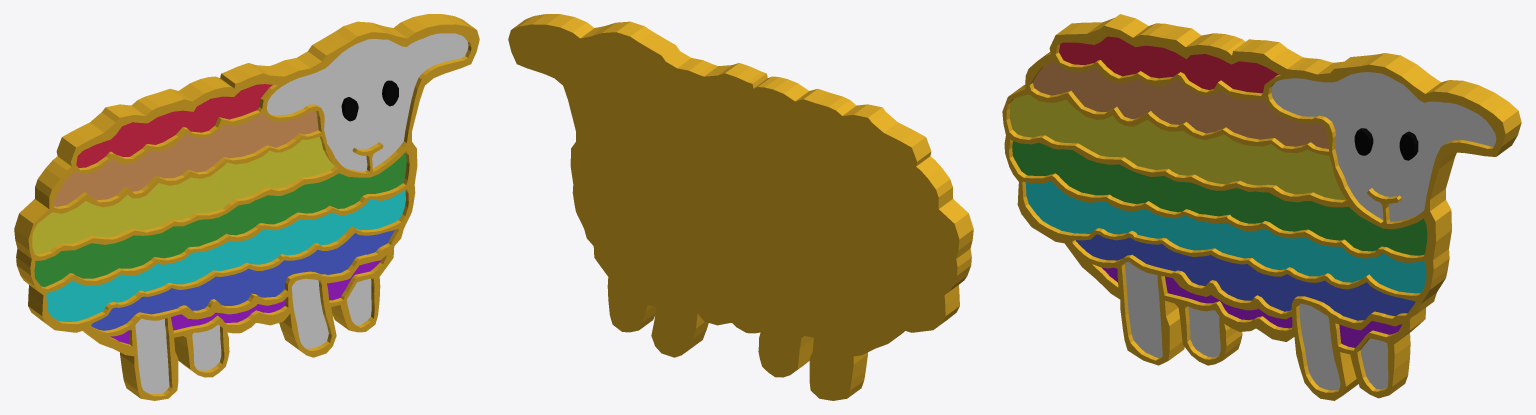
File: sheep4.glb
The picture shows the model from 3 angles, left to right: view 1: azimuth 30°, elevation 25°; view 2: azimuth 150°, elevation 25°; view 3: azimuth 330°, elevation 25°; orthographic projection. The views are drawn at different scales.
Parts seen in each view (by area): view 1: Backplate, eyes; view 2: Backplate; view 3: Backplate, eyes.
Part boxes in pixels (<box>): Backplate: <box>14,14,479,400</box>; eyes: <box>341,80,398,121</box>; Backplate: <box>508,14,973,400</box>; Backplate: <box>1002,14,1521,400</box>; eyes: <box>1354,128,1418,160</box>.
Bounding box in the file's own units: 1.6 × 1.07 × 0.09.
